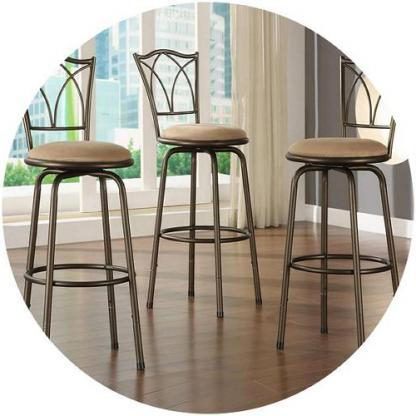chair: (24, 47, 146, 379), (134, 44, 264, 316), (273, 45, 384, 353)
